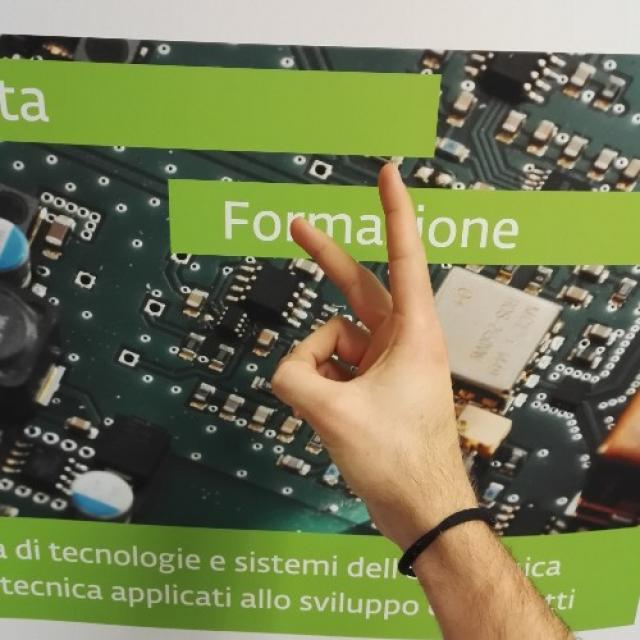scissors: (272, 156, 459, 438)
